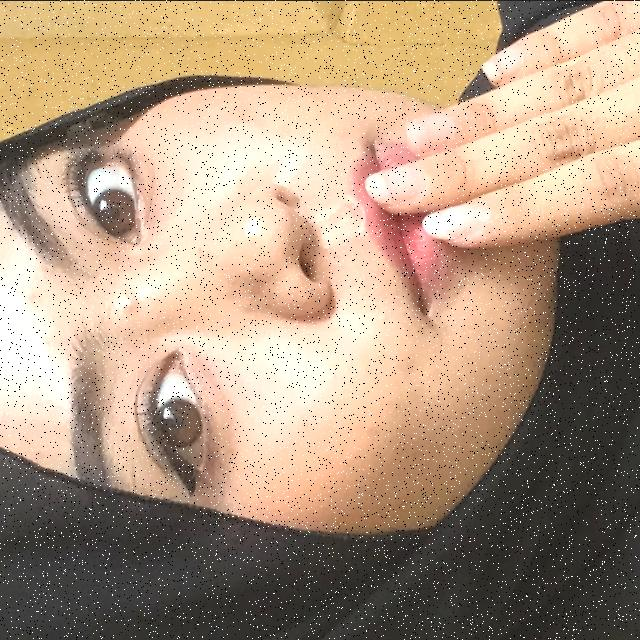ganteng: (326, 0, 640, 330)
